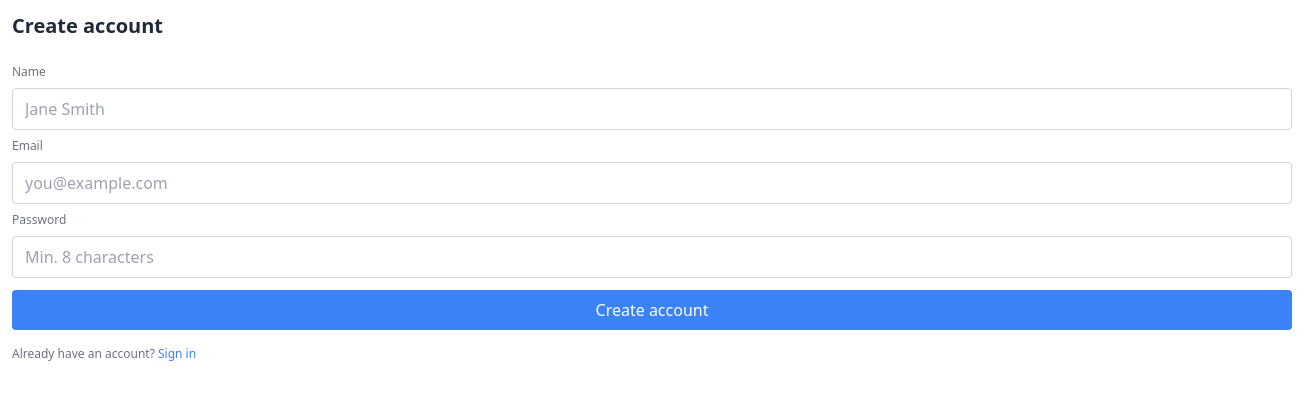
Scenario: RegisterForm › shows generic message for non-AuthError
Type "Jane" into the field with placeholder "Jane Smith" at (652, 109), box [12,88,1292,130]
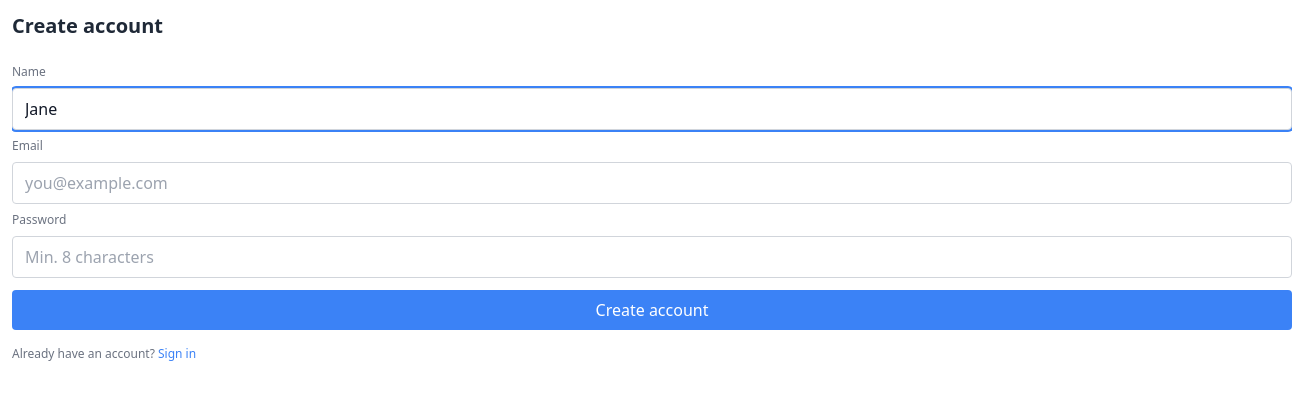
Type "jane@example.com" into the field with placeholder "you@example.com" at (652, 183), box [12,162,1292,204]
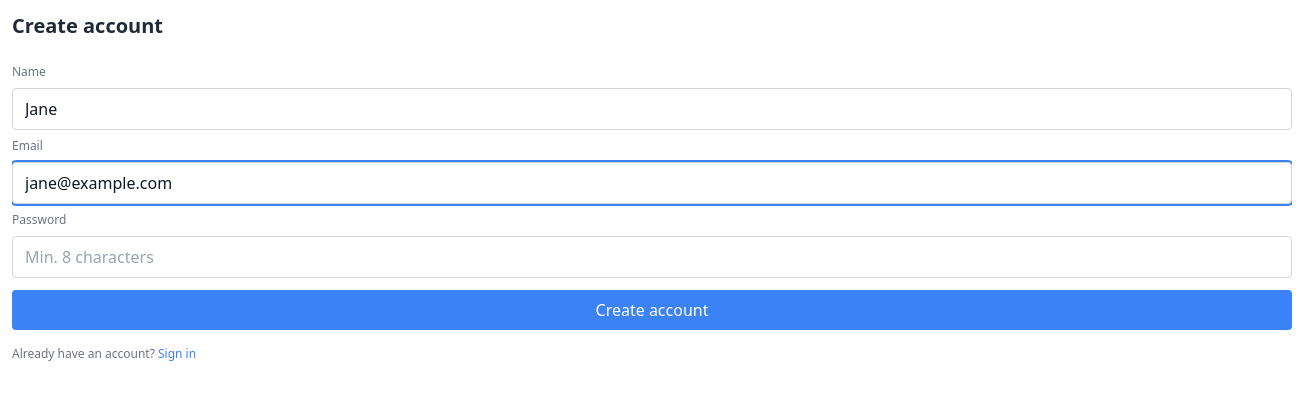
Type "password123" into the password field with placeholder "Min. 8 characters" at (652, 257), box [12,236,1292,278]
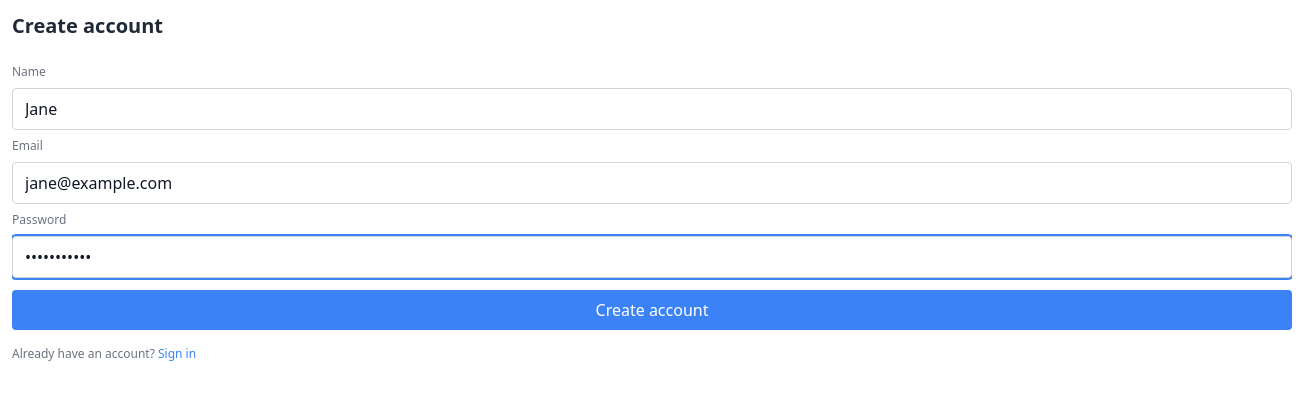
Click the button "Create account" at (652, 310), box [12,290,1292,330]
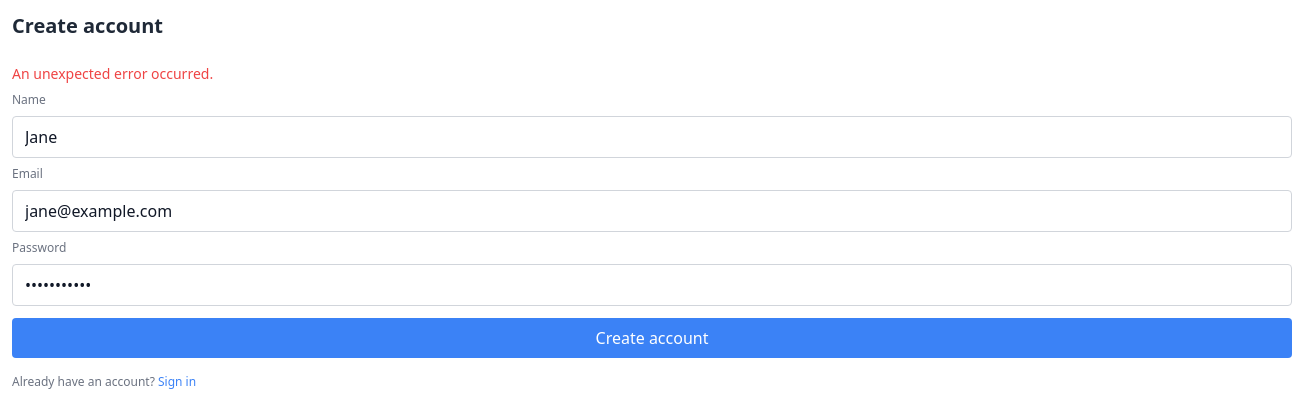
Check: the text "An unexpected error occurred." is shown, box [12,64,213,83]
